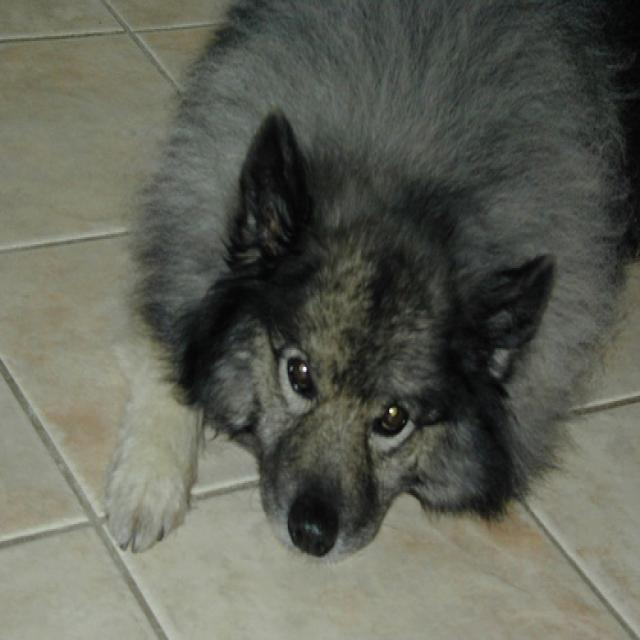dog-keeshond: (96, 2, 637, 572)
